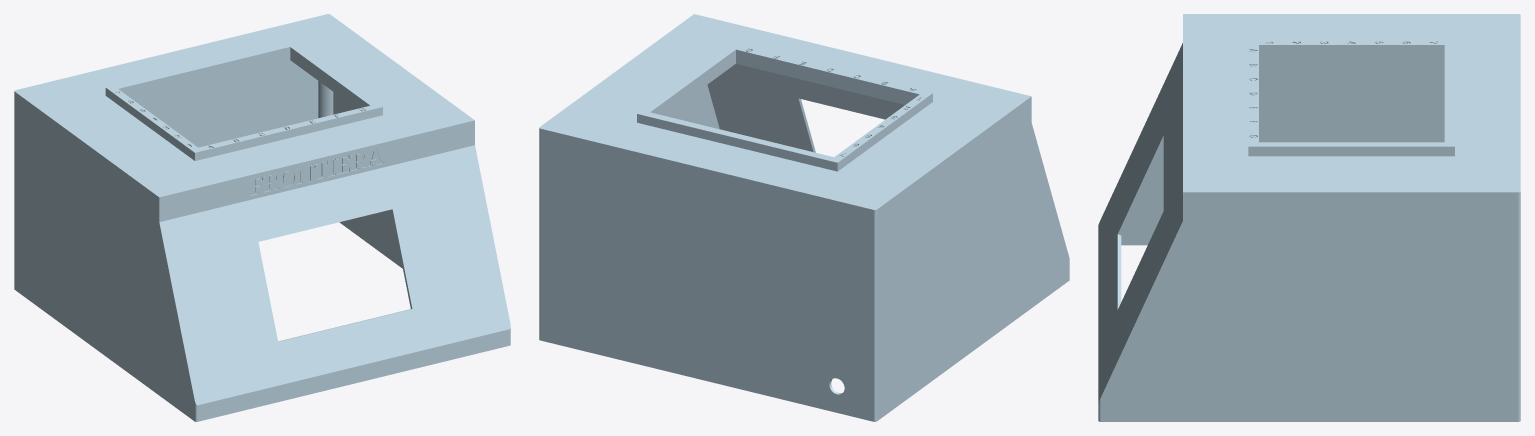
Rendered from Frontiera.gltf.
3 renders of one model, left to right at view 1: azimuth 30°, elevation 25°; view 2: azimuth 150°, elevation 25°; view 3: azimuth 270°, elevation 25°, orthographic. The views are drawn at different scales.
Visible parts, largest first — view 1: mesh0_mesh_65, mesh0_mesh_63, mesh0_mesh_69, mesh0_mesh_52, mesh0_mesh_664, mesh0_mesh_66, mesh0_mesh_79, mesh0_mesh_5, mesh0_mesh_34, mesh0_mesh_72, mesh0_mesh_6, mesh0_mesh_71 (+1 smaller); view 2: mesh0_mesh_59, mesh0_mesh_63, mesh0_mesh_69, mesh0_mesh_47, mesh0_mesh_79, mesh0_mesh_7, mesh0_mesh_70, mesh0_mesh_34, mesh0_mesh_6, mesh0_mesh_71, mesh0_mesh_60; view 3: mesh0_mesh_62, mesh0_mesh_69, mesh0_mesh_36, mesh0_mesh_65, mesh0_mesh_79, mesh0_mesh_4, mesh0_mesh_73, mesh0_mesh_61, mesh0_mesh_49.
Boxes of the visible parts, x1,y1,x2,y2 form: mesh0_mesh_65: [159, 145, 510, 405]; mesh0_mesh_63: [14, 92, 194, 421]; mesh0_mesh_69: [14, 14, 474, 197]; mesh0_mesh_52: [132, 60, 318, 147]; mesh0_mesh_664: [159, 120, 474, 221]; mesh0_mesh_66: [197, 329, 509, 421]; mesh0_mesh_79: [106, 41, 382, 152]; mesh0_mesh_5: [118, 47, 290, 98]; mesh0_mesh_34: [333, 92, 402, 268]; mesh0_mesh_72: [195, 107, 382, 160]; mesh0_mesh_6: [290, 47, 369, 108]; mesh0_mesh_71: [105, 88, 194, 160]; mesh0_mesh_59: [540, 128, 873, 421]; mesh0_mesh_63: [877, 96, 1069, 420]; mesh0_mesh_69: [539, 14, 1031, 209]; mesh0_mesh_47: [707, 64, 904, 151]; mesh0_mesh_79: [637, 44, 932, 162]; mesh0_mesh_7: [736, 49, 919, 104]; mesh0_mesh_70: [637, 114, 837, 171]; mesh0_mesh_34: [665, 85, 719, 129]; mesh0_mesh_6: [650, 50, 735, 115]; mesh0_mesh_71: [837, 93, 932, 171]; mesh0_mesh_60: [873, 210, 876, 421]; mesh0_mesh_62: [1101, 192, 1517, 421]; mesh0_mesh_69: [1183, 14, 1520, 192]; mesh0_mesh_36: [1121, 60, 1444, 245]; mesh0_mesh_65: [1098, 43, 1182, 401]; mesh0_mesh_79: [1248, 40, 1454, 146]; mesh0_mesh_4: [1259, 45, 1444, 60]; mesh0_mesh_73: [1248, 146, 1454, 156]; mesh0_mesh_61: [1518, 192, 1520, 421]; mesh0_mesh_49: [1118, 136, 1163, 235].
Size of the model in its own units: 0.2 by 0.125 by 0.2.
